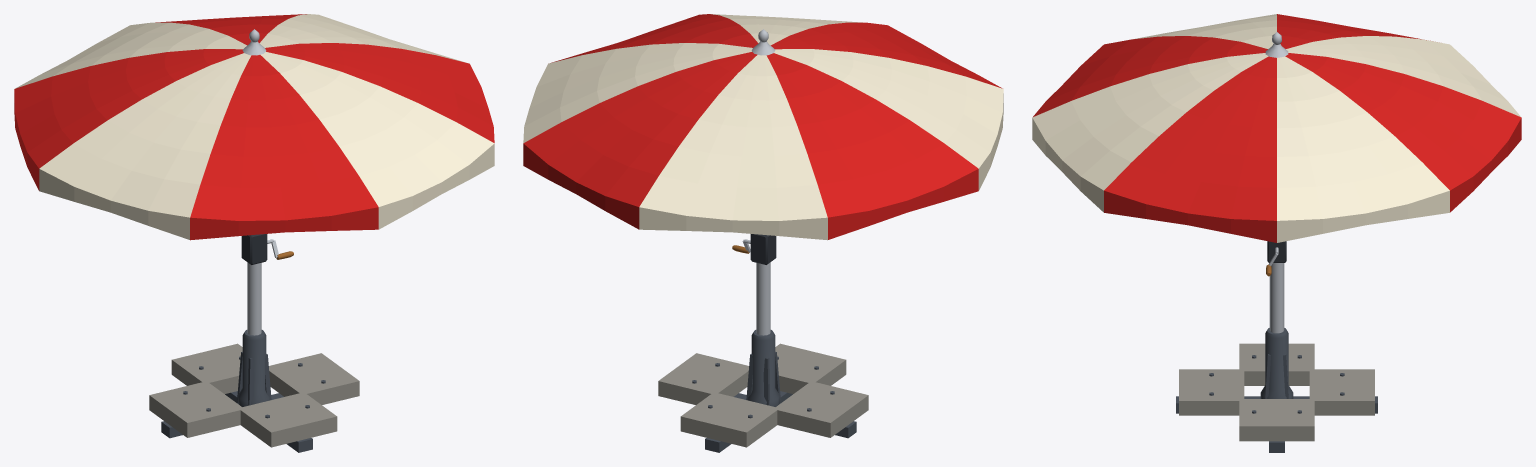
The model's file is parasol.glb.
3 renders of one model, left to right at view 1: azimuth 30°, elevation 25°; view 2: azimuth 150°, elevation 25°; view 3: azimuth 270°, elevation 25°, orthographic.
Visible parts, largest first — view 1: parasol_mesh; view 2: parasol_mesh; view 3: parasol_mesh.
Part boxes in pixels (<box>): parasol_mesh: <box>14,14,494,452</box>; parasol_mesh: <box>523,14,1003,452</box>; parasol_mesh: <box>1032,14,1521,452</box>.
Size of the model in its own units: 3 by 2.56 by 3.
